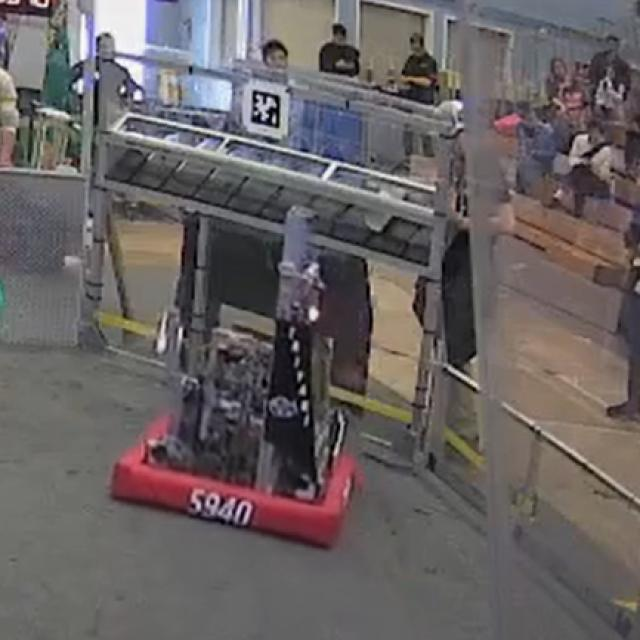Robot-YfA7: (109, 328, 372, 551)
